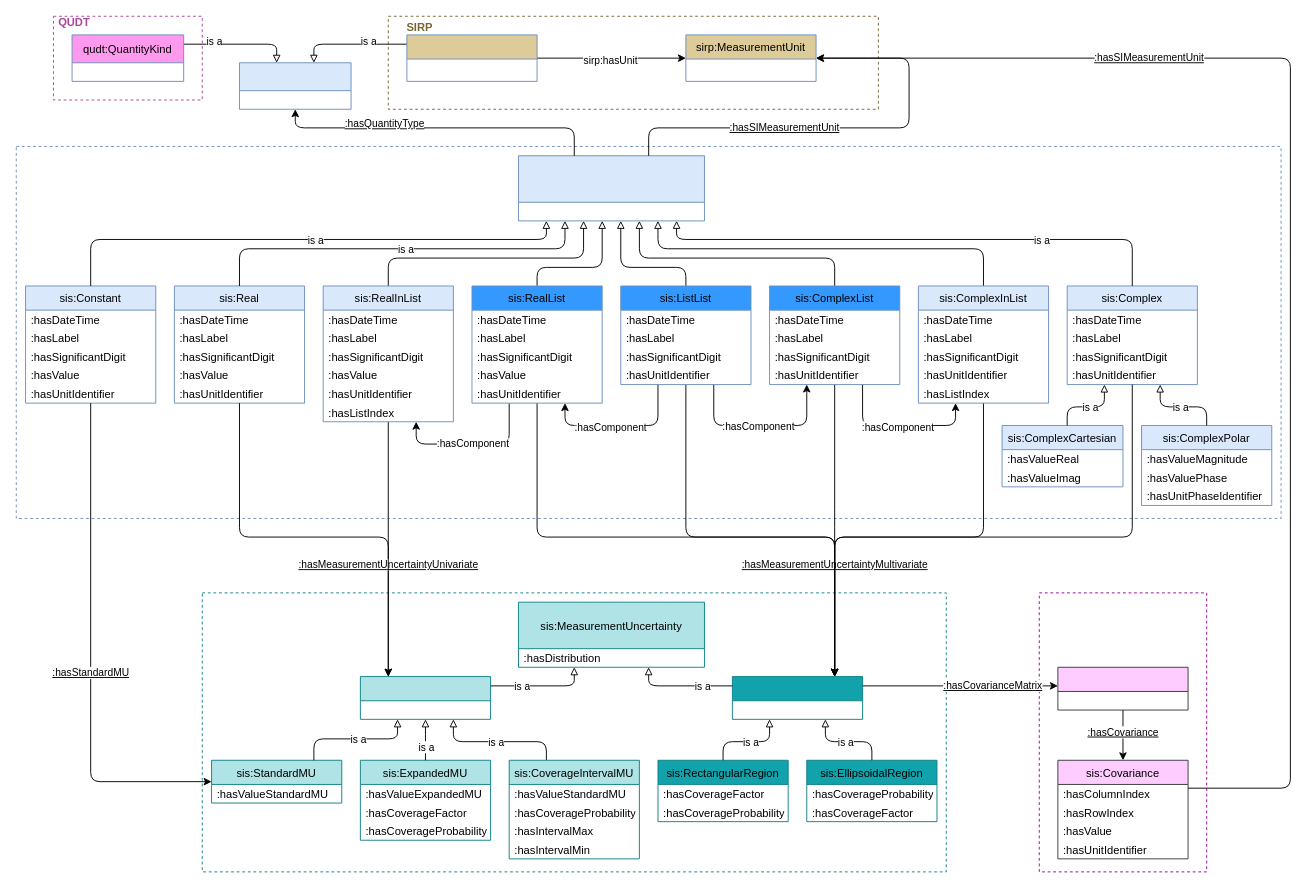
Some shapes in this 1314 by 888 pixel diagram are drawn without their labels. Each missing label, with the centre of its shape:
"sirp:QuantityKind" belongs at [471,57].
"sis:CovarianceMatrix" belongs at [1122,688].
"sis:Measurement- UncertaintyMultivariate" belongs at [797,697].
"sis:Measurement- UncertaintyUnivariate" belongs at [425,697].
"sis:QuantityType" belongs at [295,85].
"sis:QuantityValue" belongs at [611,188].
